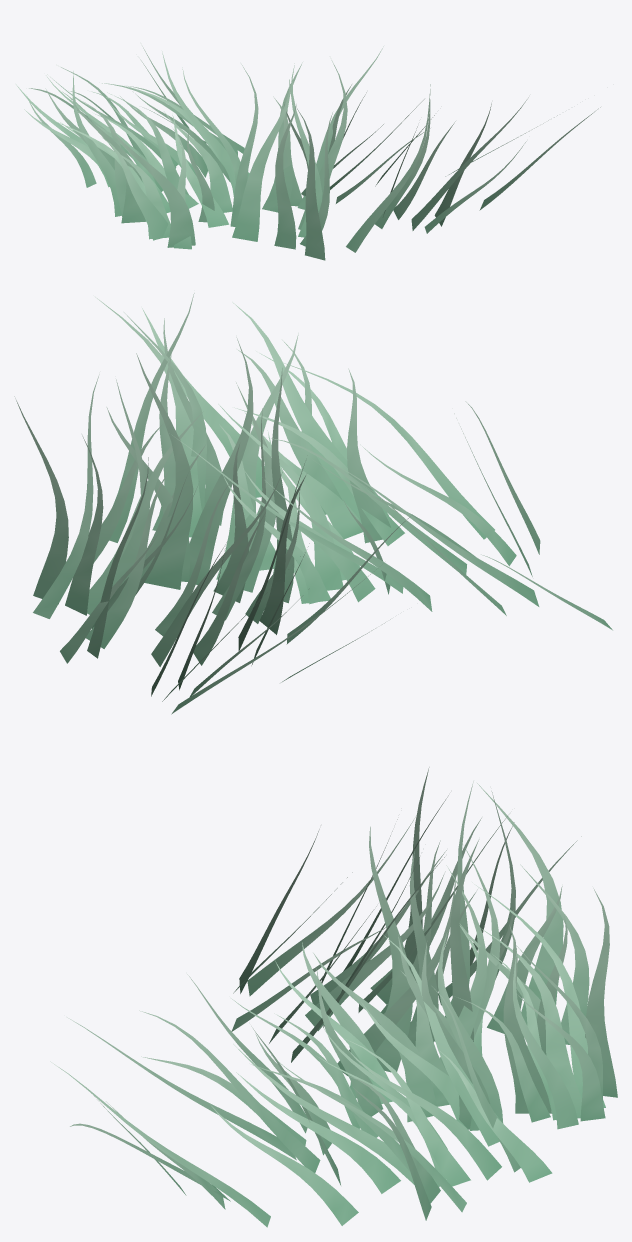
The model's file is mesh-plant-017-cloud-tuft_LOD0.glb.
3 renders of one model, top to bottom at view 1: azimuth 30°, elevation 25°; view 2: azimuth 150°, elevation 25°; view 3: azimuth 270°, elevation 25°, orthographic. The views are drawn at different scales.
Parts seen in each view (by area): view 1: geometry_0; view 2: geometry_0; view 3: geometry_0.
Boxes of the visible parts, x1,y1,x2,y2 form: geometry_0: (16,46,600,260); geometry_0: (14,293,612,714); geometry_0: (50,767,617,1227).
Bounding box in the file's own units: 1.45 × 0.3844 × 1.1.
